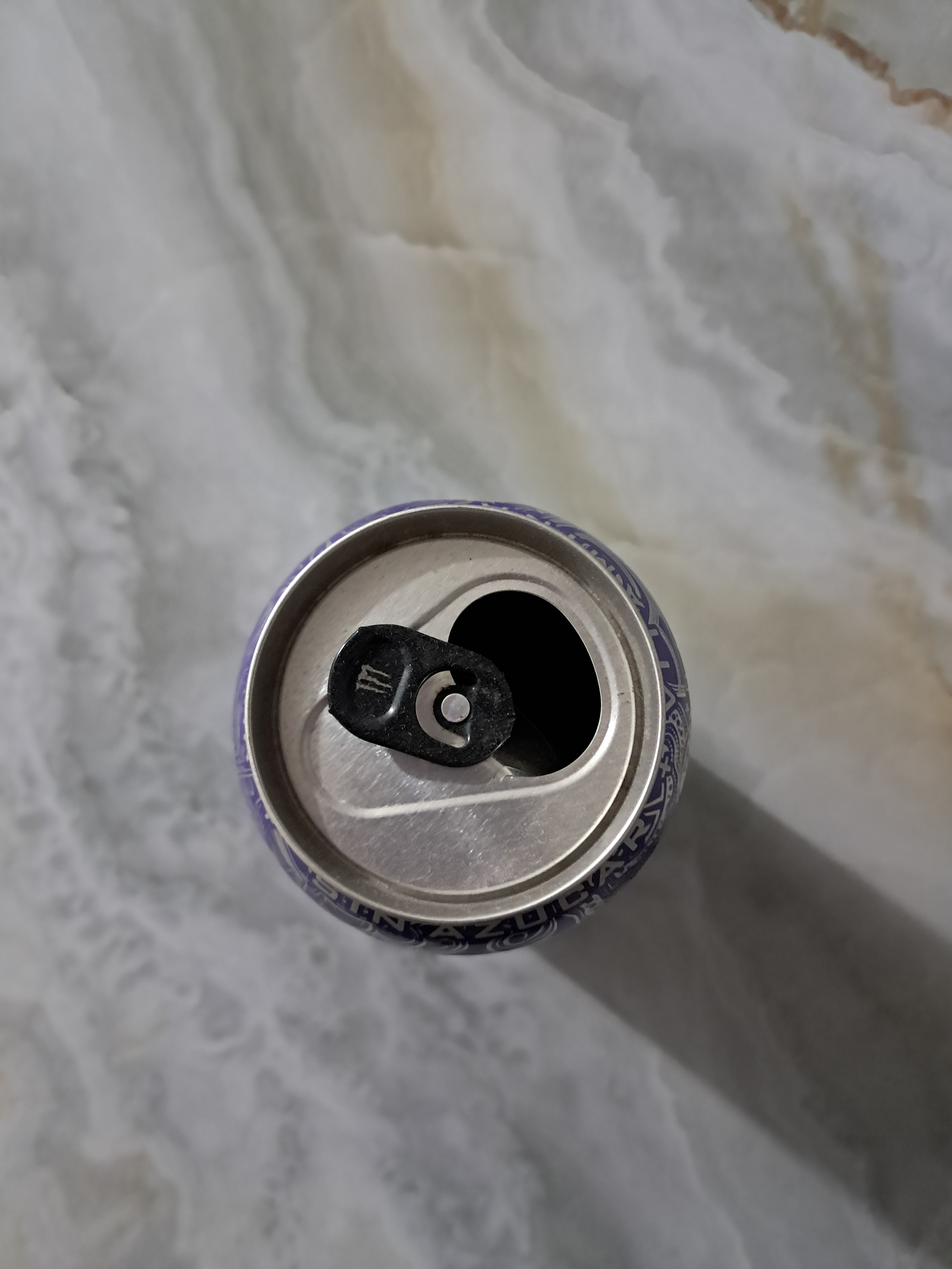energy_drink: (234, 500, 690, 954)
